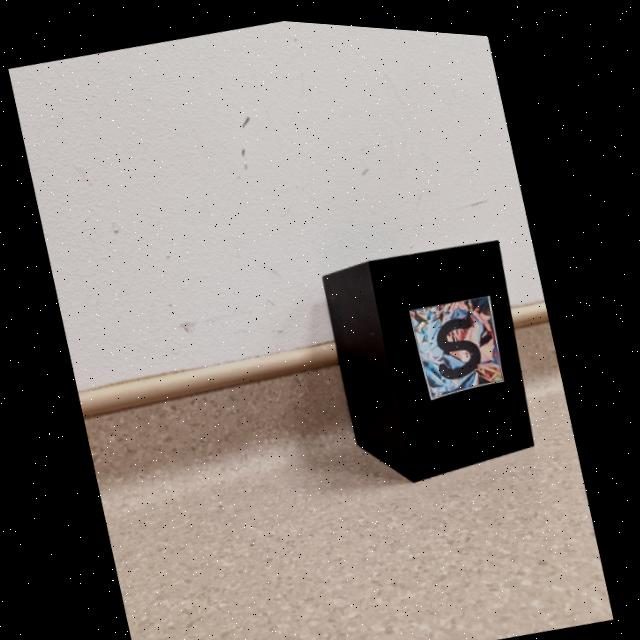S: (439, 311, 482, 371)
